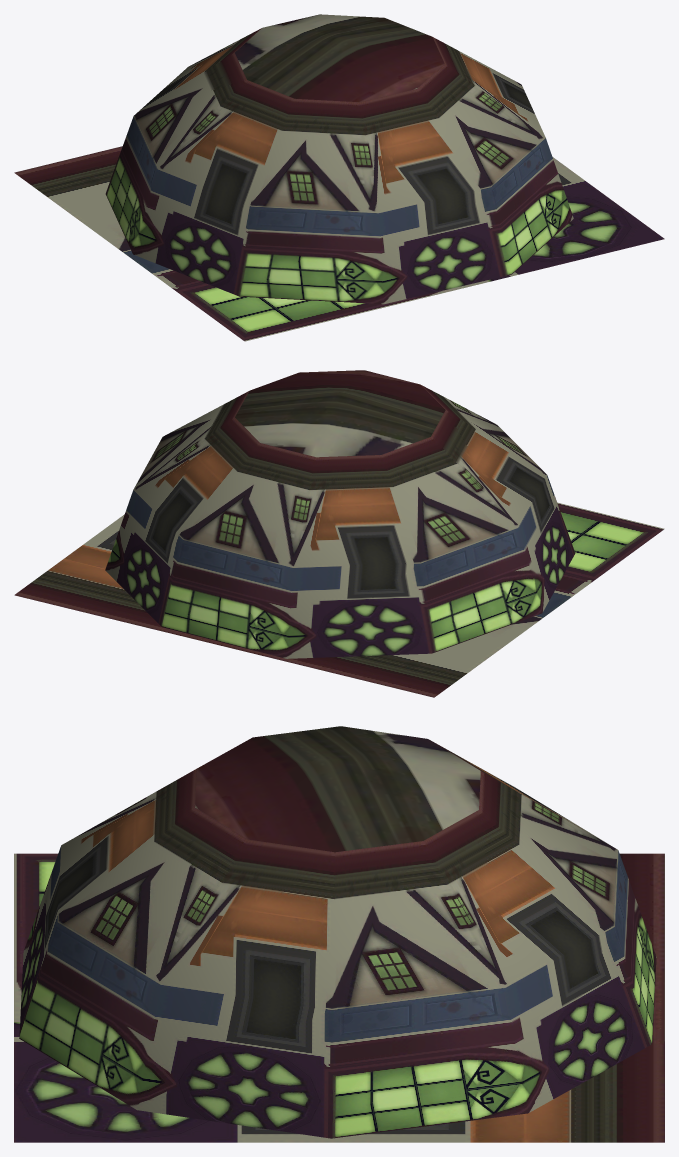
Rendered from Combined_Mesh_root_scene__18_bcf75302__churchyard_diffuse_05_6c7888ae_c1f257.obj.
3 renders of one model, top to bottom at view 1: azimuth 30°, elevation 25°; view 2: azimuth 150°, elevation 25°; view 3: azimuth 270°, elevation 25°, orthographic. The views are drawn at different scales.
Size of the model in its own units: 139 by 56.25 by 132.
Materials: 190 (190 with a texture image).
